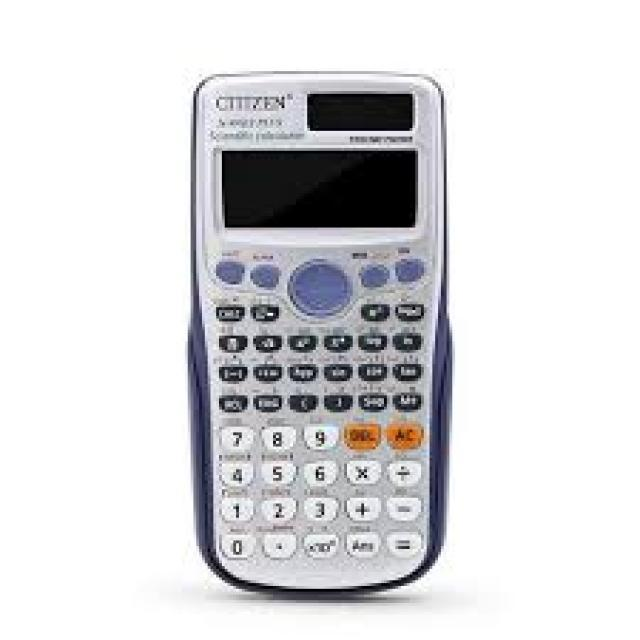Calculator: (177, 66, 467, 599)
